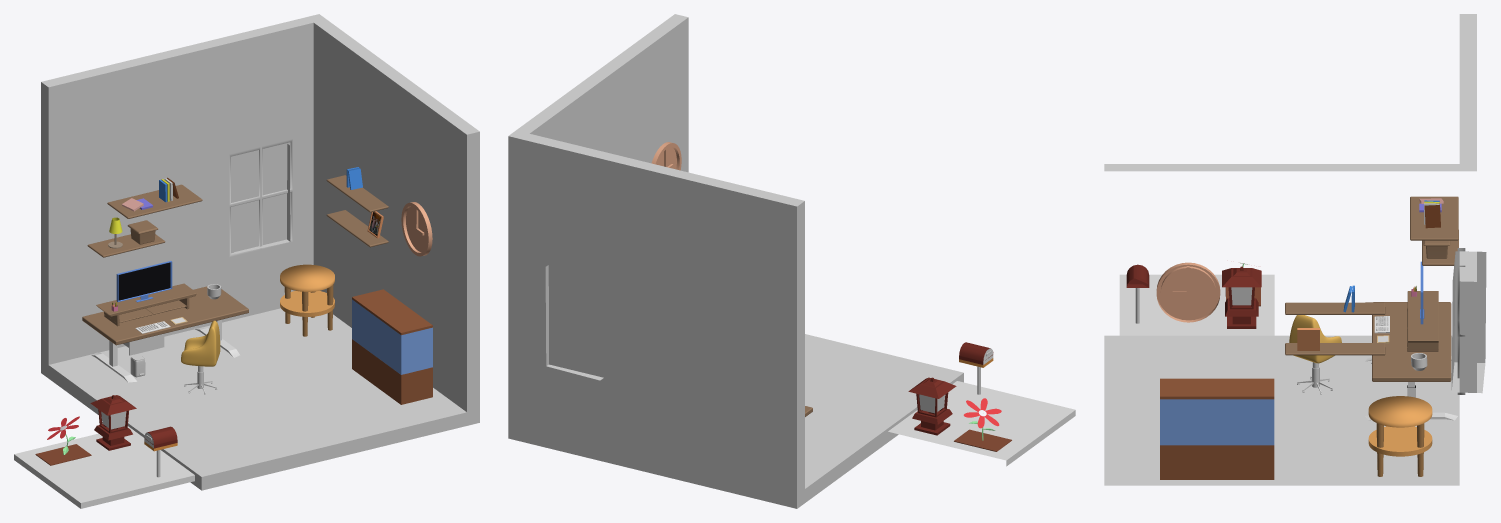
File: Room_Model.glb
3 renders of one model, left to right at view 1: azimuth 30°, elevation 25°; view 2: azimuth 150°, elevation 25°; view 3: azimuth 270°, elevation 25°, orthographic. The views are drawn at different scales.
Parts seen in each view (by area): view 1: backup_wall, Cube.029, Cube.023, Table Top, Aquarioum, Table Top.002, Plane, Screen, Plane.001, Cylinder.007, Cylinder.004, Table Top.006 (+11 smaller); view 2: backup_wall, Cube.029, Plane.001, Plane.003, Cylinder.008, Cylinder.007; view 3: backup_wall, Cube.023, Aquarioum, Cube.029, Table Top, Cylinder.007, Cube.010, Table Top.002, Plane.001, Cylinder.004, Table Top.006, Cylinder.005 (+8 smaller).
Part boxes in pixels (x1=…): backup_wall: x1=41, y1=14, x2=479, y2=490; Cube.029: x1=14, y1=426, x2=194, y2=508; Cube.023: x1=352, y1=289, x2=432, y2=404; Table Top: x1=82, y1=286, x2=248, y2=345; Aquarioum: x1=352, y1=299, x2=432, y2=374; Table Top.002: x1=96, y1=283, x2=196, y2=326; Plane: x1=229, y1=139, x2=292, y2=257; Screen: x1=118, y1=262, x2=170, y2=300; Plane.001: x1=90, y1=395, x2=136, y2=450; Cylinder.007: x1=401, y1=202, x2=432, y2=256; Cylinder.004: x1=280, y1=264, x2=334, y2=291; Table Top.006: x1=107, y1=184, x2=202, y2=218; backup_wall: x1=508, y1=14, x2=963, y2=508; Cube.029: x1=888, y1=381, x2=1075, y2=466; Plane.001: x1=908, y1=377, x2=956, y2=435; Plane.003: x1=954, y1=429, x2=1011, y2=451; Cylinder.008: x1=959, y1=342, x2=993, y2=367; Cylinder.007: x1=651, y1=142, x2=681, y2=170; backup_wall: x1=1104, y1=14, x2=1476, y2=485; Cube.023: x1=1160, y1=378, x2=1274, y2=479; Aquarioum: x1=1160, y1=399, x2=1274, y2=445; Cube.029: x1=1119, y1=274, x2=1274, y2=335; Table Top: x1=1372, y1=302, x2=1451, y2=381; Cylinder.007: x1=1156, y1=262, x2=1220, y2=322; Cube.010: x1=1451, y1=251, x2=1486, y2=393; Table Top.002: x1=1407, y1=291, x2=1438, y2=351; Plane.001: x1=1222, y1=266, x2=1261, y2=328; Cylinder.004: x1=1368, y1=396, x2=1432, y2=427; Table Top.006: x1=1410, y1=196, x2=1458, y2=240; Cylinder.005: x1=1368, y1=426, x2=1432, y2=456.
Bounding box in the file's own units: 46.73 × 33.13 × 33.98.
Materials: 36 (1 with a texture image).
